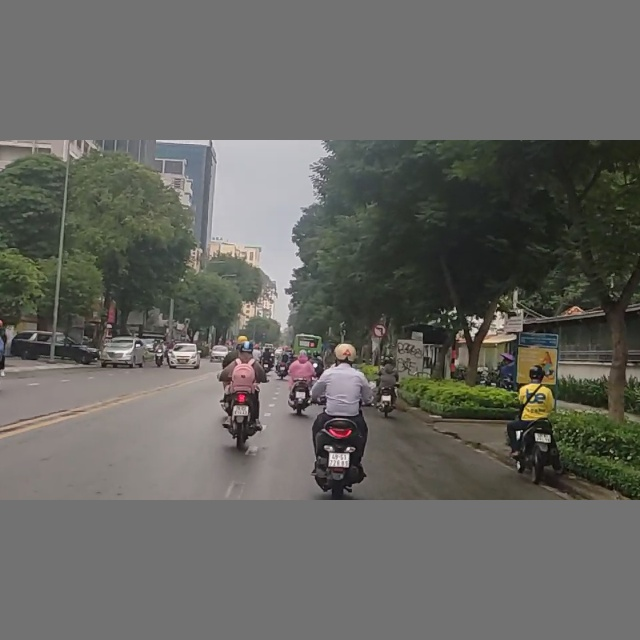P.123a: (372, 323, 389, 338)
